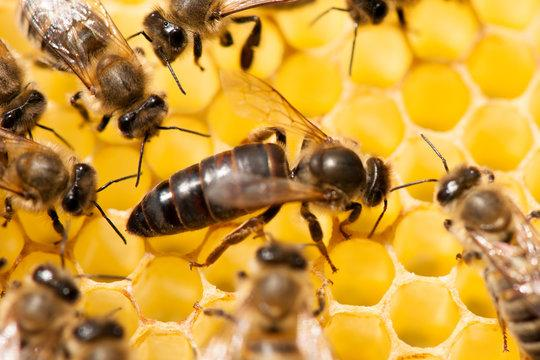Queen-Bee: (127, 70, 397, 270)
worker-bee: (421, 134, 539, 359), (19, 0, 167, 138), (0, 129, 124, 239)
